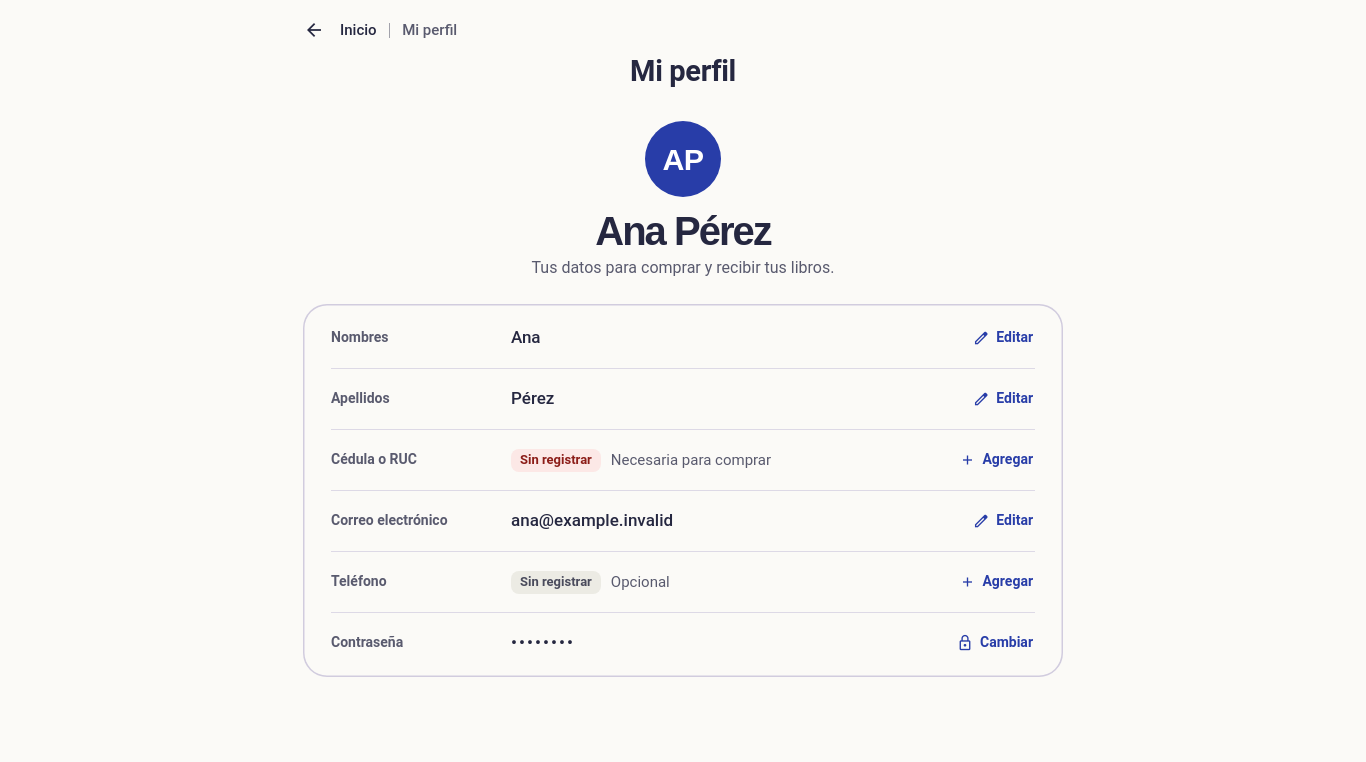
Test: explains a stale registration without overwriting the stored cédula
Step 1. Click the button named "Agregar cédula o RUC" → x=997, y=460, box 948,438 -> 1045,482
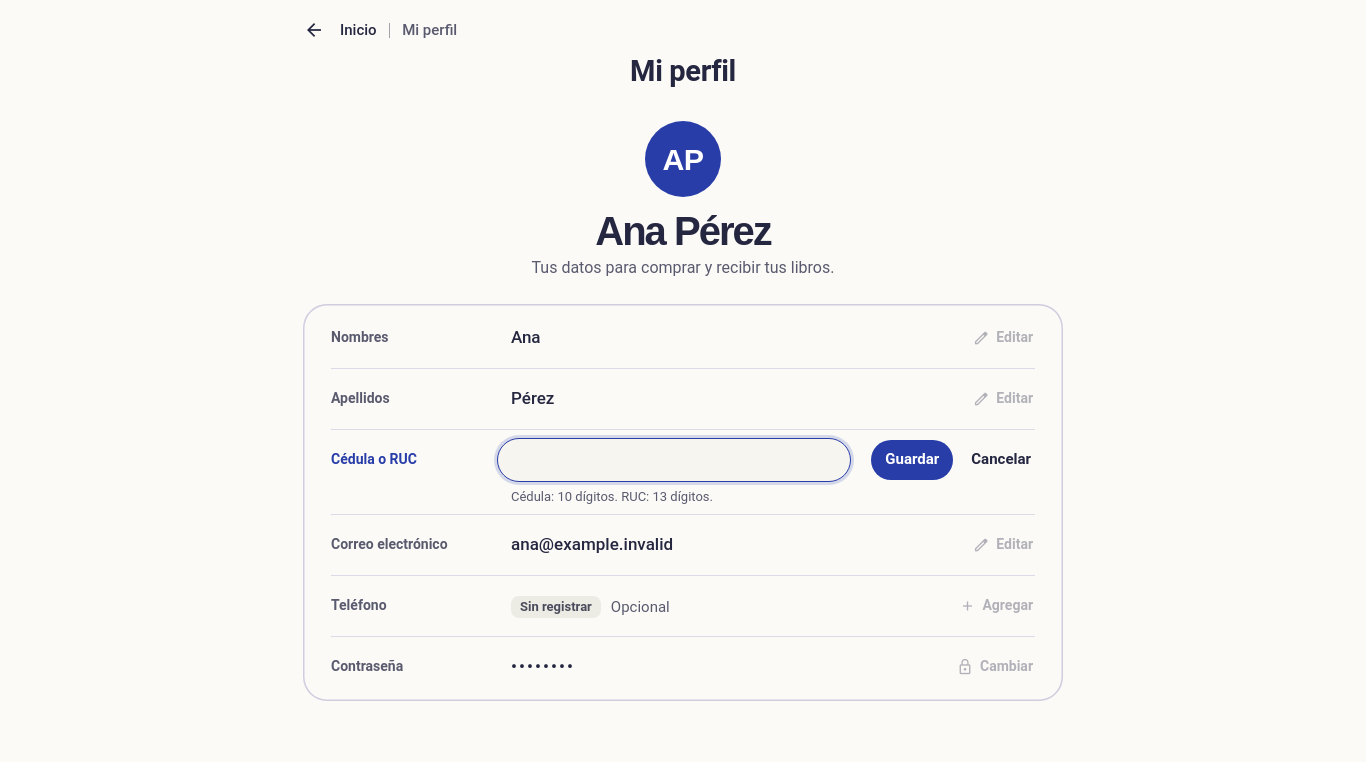
Step 2. Type "1710034065" into the field labelled "Cédula o RUC" → x=674, y=460, box 497,438 -> 851,482
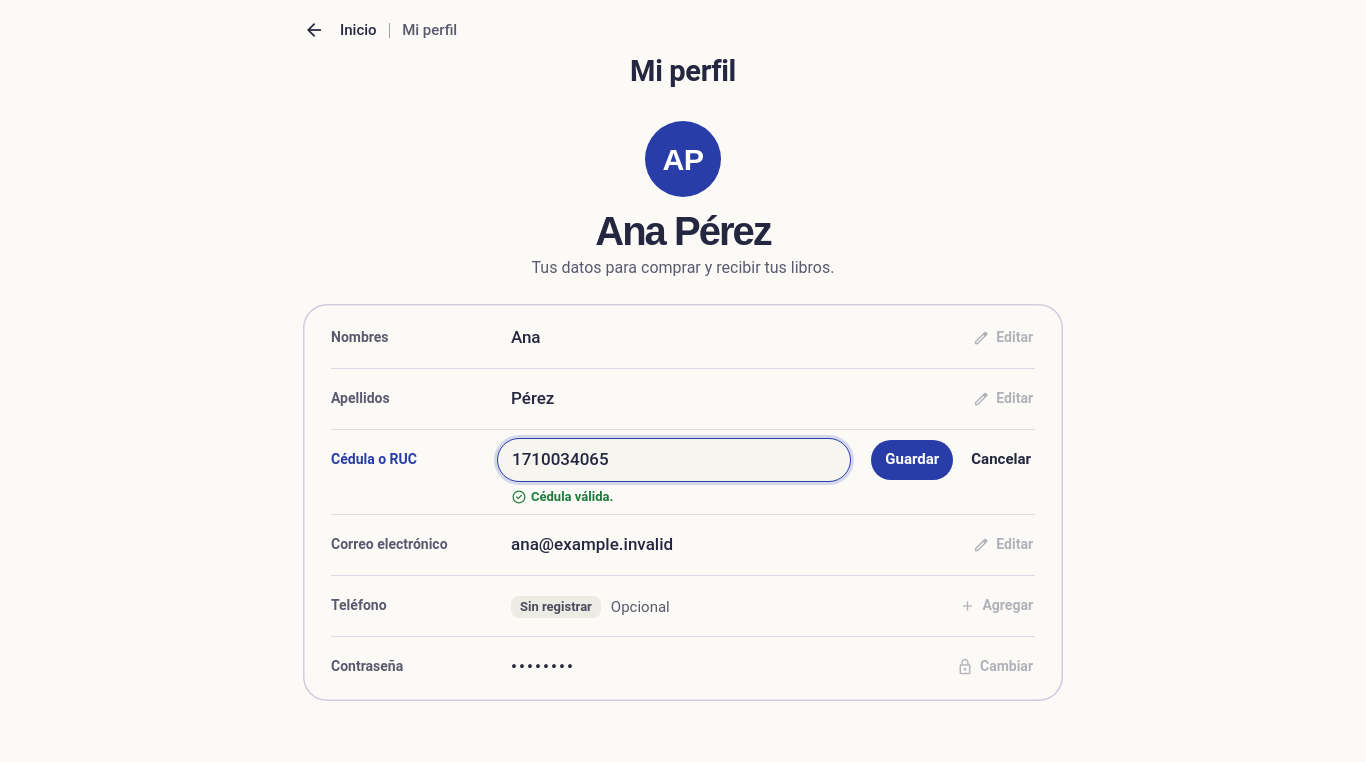
Step 3. Click the button "Guardar" → x=912, y=460, box 871,440 -> 953,480
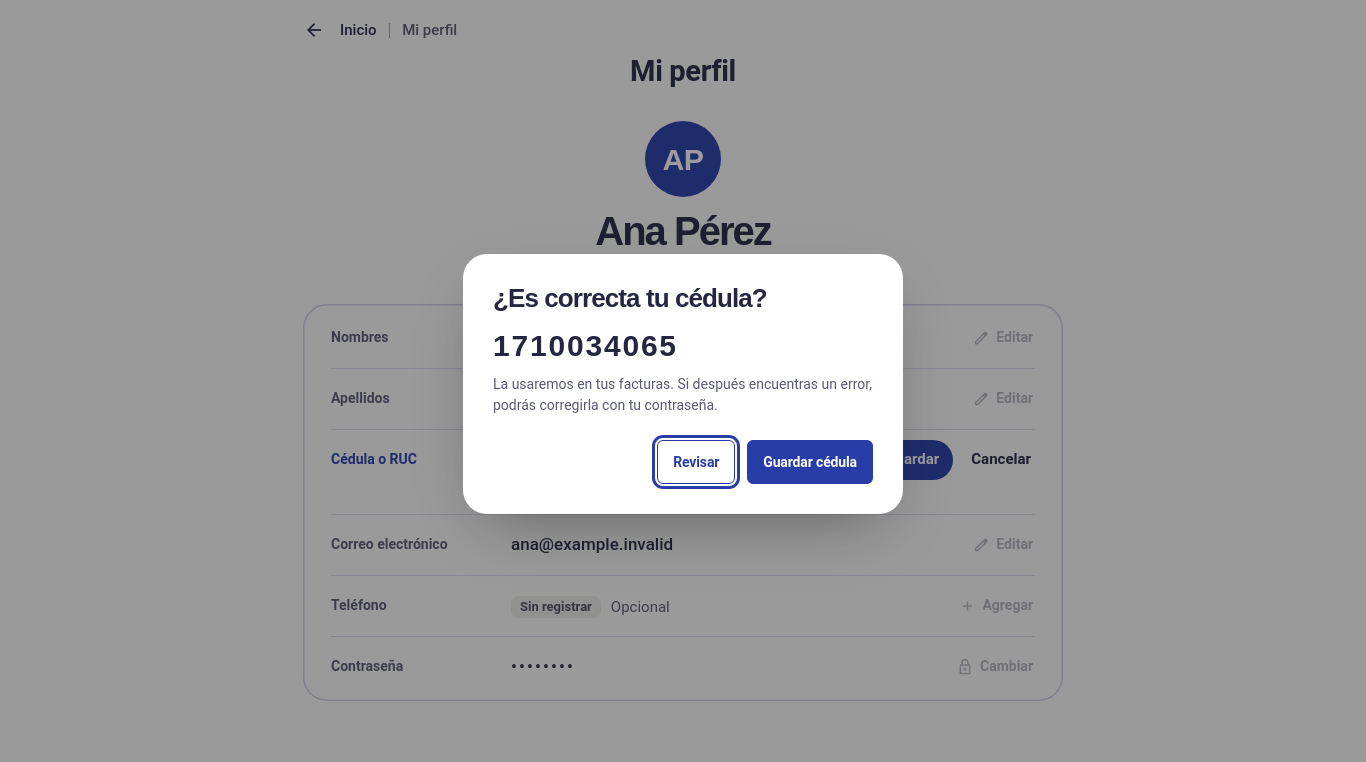
Step 4. Click the button "Guardar cédula" → x=810, y=462, box 747,440 -> 873,484
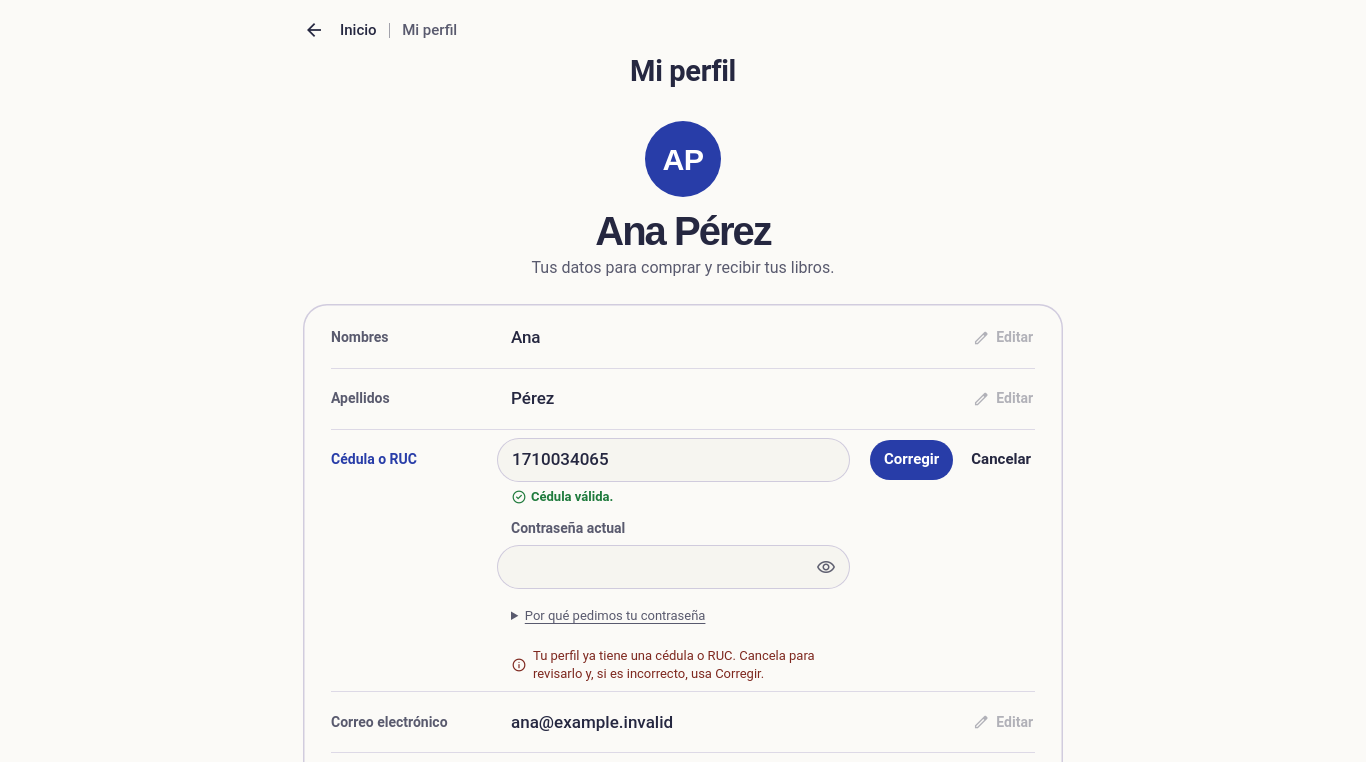
Check: the message shows "Tu perfil ya tiene una cédula o RUC. Cancela para revisarlo y, si es incorrecto, usa Corregir.", box 533,648 -> 815,681
